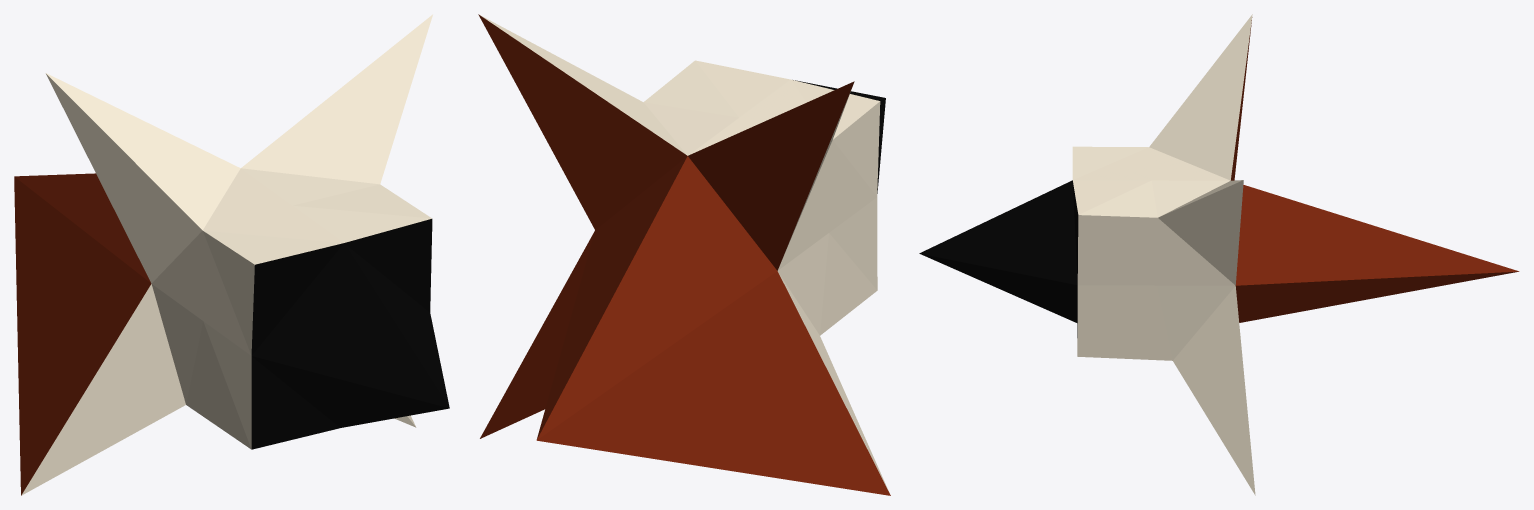
Rendered from SpaceShip.obj.
3 renders of one model, left to right at view 1: azimuth 30°, elevation 25°; view 2: azimuth 150°, elevation 25°; view 3: azimuth 270°, elevation 25°, orthographic. The views are drawn at different scales.
Visible parts, largest first — view 1: SpaceShip_Cube_White, SpaceShip_Cube_Black, SpaceShip_Cube_Material; view 2: SpaceShip_Cube_Material, SpaceShip_Cube_White, SpaceShip_Cube_Black; view 3: SpaceShip_Cube_White, SpaceShip_Cube_Material, SpaceShip_Cube_Black.
Boxes of the visible parts, left/top/right/bottom form: SpaceShip_Cube_White: left=21, top=14, right=432, bottom=495; SpaceShip_Cube_Black: left=251, top=219, right=449, bottom=449; SpaceShip_Cube_Material: left=14, top=173, right=151, bottom=495; SpaceShip_Cube_Material: left=478, top=14, right=890, bottom=495; SpaceShip_Cube_White: left=480, top=15, right=889, bottom=492; SpaceShip_Cube_Black: left=793, top=80, right=885, bottom=193; SpaceShip_Cube_White: left=1072, top=14, right=1255, bottom=495; SpaceShip_Cube_Material: left=1231, top=17, right=1519, bottom=322; SpaceShip_Cube_Black: left=919, top=180, right=1078, bottom=337.
Bounding box in the file's own units: 4.58 × 4.75 × 7.55.
